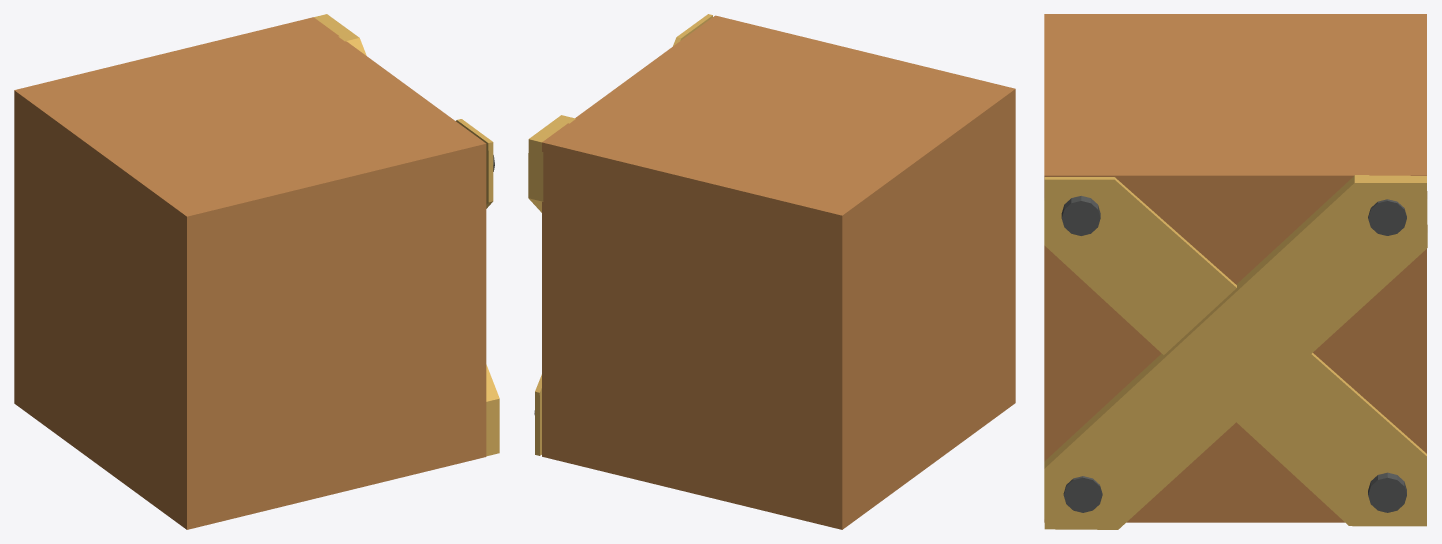
3 views of the same model, side by side, from view 1: azimuth 30°, elevation 25°; view 2: azimuth 150°, elevation 25°; view 3: azimuth 270°, elevation 25° (orthographic). The views are drawn at different scales.
Visible parts, largest first — view 1: Circle.014; view 2: Circle.014; view 3: Circle.014.
Boxes of the visible parts, bbox=[...] form: Circle.014: bbox=[14, 14, 499, 529]; Circle.014: bbox=[528, 14, 1015, 529]; Circle.014: bbox=[1044, 14, 1427, 529].
Size of the model in its own units: 279 by 265 by 265.
